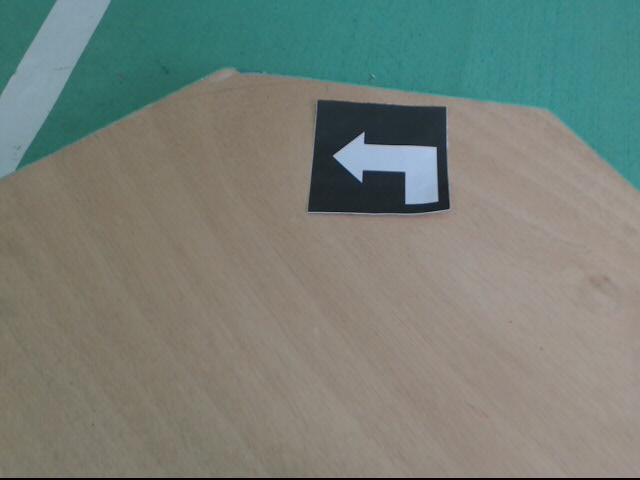left: (307, 99, 451, 217)
